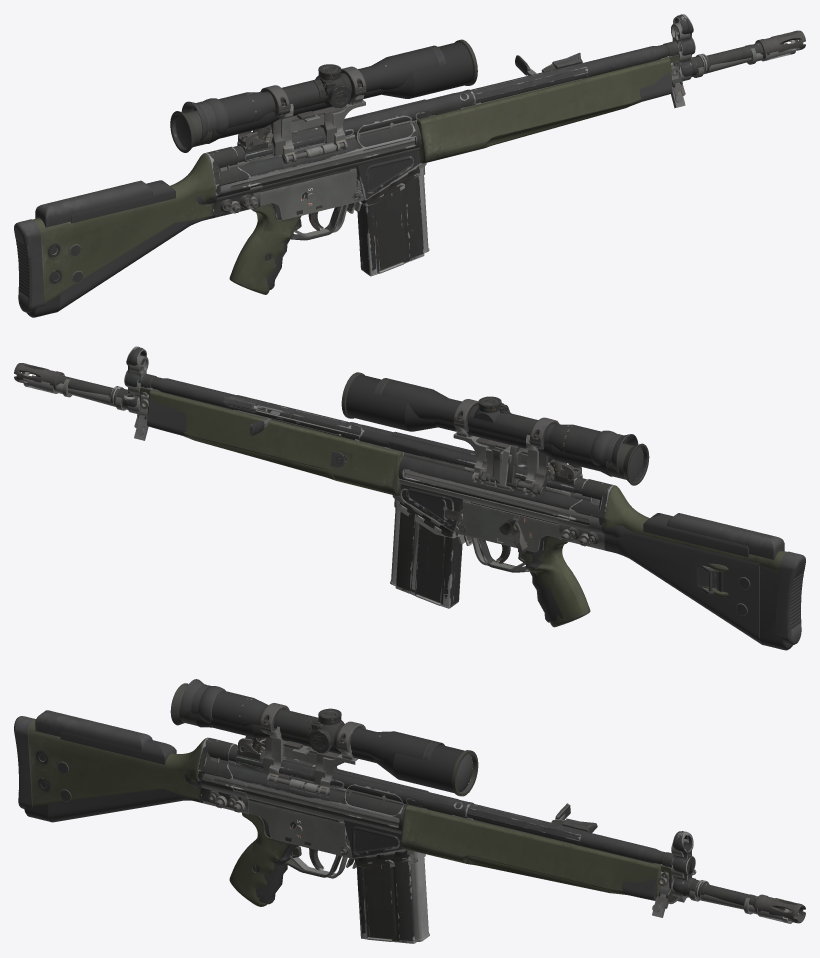
3 views of the same model, one above another, from view 1: azimuth 30°, elevation 25°; view 2: azimuth 150°, elevation 25°; view 3: azimuth 330°, elevation 25° (orthographic).
Visible parts, largest first — view 1: weapon_snip_g3sg1.vmdl_c.body_hd, weapon_snip_g3sg1.vmdl_c.body_legacy; view 2: weapon_snip_g3sg1.vmdl_c.body_hd, weapon_snip_g3sg1.vmdl_c.body_legacy; view 3: weapon_snip_g3sg1.vmdl_c.body_hd, weapon_snip_g3sg1.vmdl_c.body_legacy.
Boxes of the visible parts, x1,y1,x2,y2 form: weapon_snip_g3sg1.vmdl_c.body_hd: [14, 14, 805, 312]; weapon_snip_g3sg1.vmdl_c.body_legacy: [27, 22, 796, 317]; weapon_snip_g3sg1.vmdl_c.body_hd: [14, 346, 805, 644]; weapon_snip_g3sg1.vmdl_c.body_legacy: [23, 355, 792, 650]; weapon_snip_g3sg1.vmdl_c.body_hd: [14, 679, 805, 943]; weapon_snip_g3sg1.vmdl_c.body_legacy: [24, 683, 792, 941].
Size of the model in its own units: 42.84 by 11.1 by 3.71.
3 materials, 2 textured.
